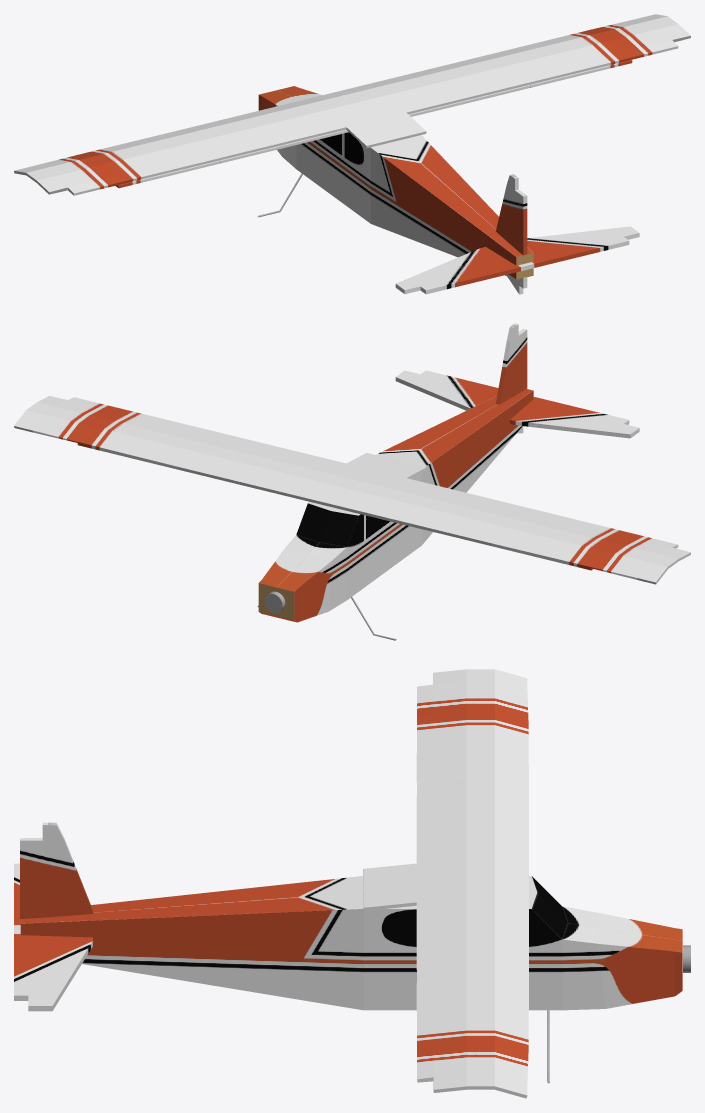
File: MainBody.glb
3 views of the same model, one above another, from view 1: azimuth 30°, elevation 25°; view 2: azimuth 150°, elevation 25°; view 3: azimuth 270°, elevation 25° (orthographic). The views are drawn at different scales.
Visible parts, largest first — view 1: Wing, Body, HStab, VStab; view 2: Wing, Body, HStab, VStab; view 3: Wing, Body, VStab, HStab.
Boxes of the visible parts, x1,y1,x2,y2 form: Wing: [14, 14, 690, 195]; Body: [258, 86, 533, 279]; HStab: [395, 226, 639, 294]; VStab: [496, 174, 527, 294]; Wing: [14, 396, 690, 584]; Body: [258, 389, 533, 622]; HStab: [395, 370, 639, 438]; VStab: [496, 323, 527, 433]; Wing: [363, 669, 528, 1098]; Body: [20, 876, 682, 1010]; VStab: [20, 822, 93, 918]; HStab: [14, 863, 92, 1011].
Size of the model in its own units: 0.82 by 0.197 by 0.5624.
Materials: 3 (2 with a texture image).
